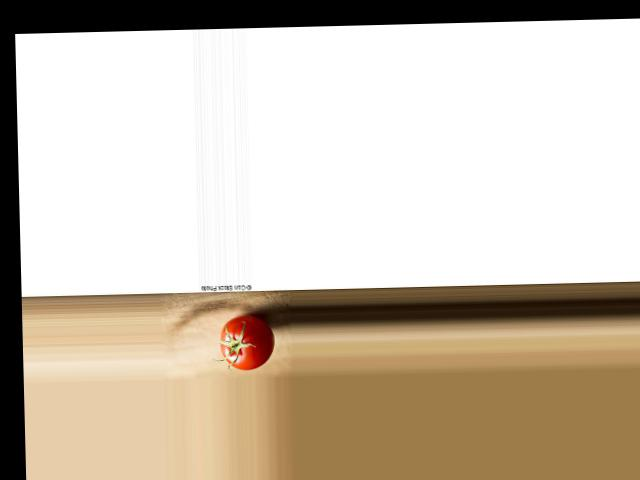tomato: (218, 314, 274, 369)
